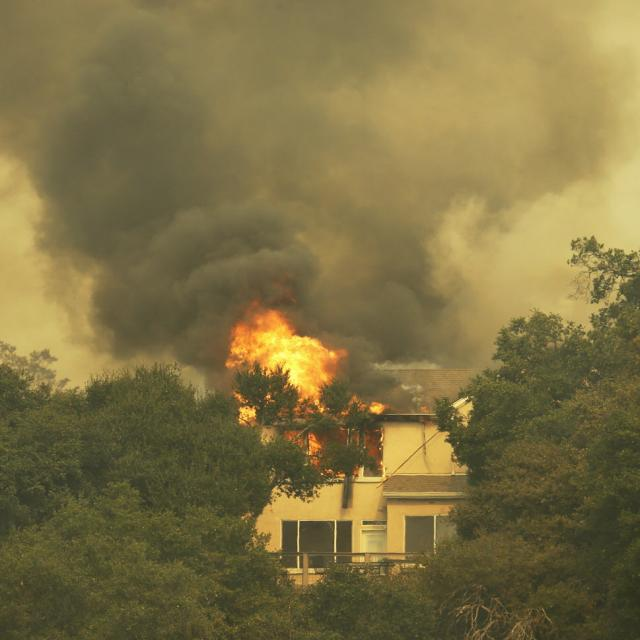Fire: (216, 303, 390, 487)
Smoke: (213, 0, 616, 368), (0, 0, 339, 363)
